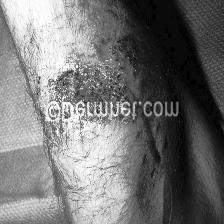Toxin: (54, 66, 126, 104), (59, 120, 109, 142)
